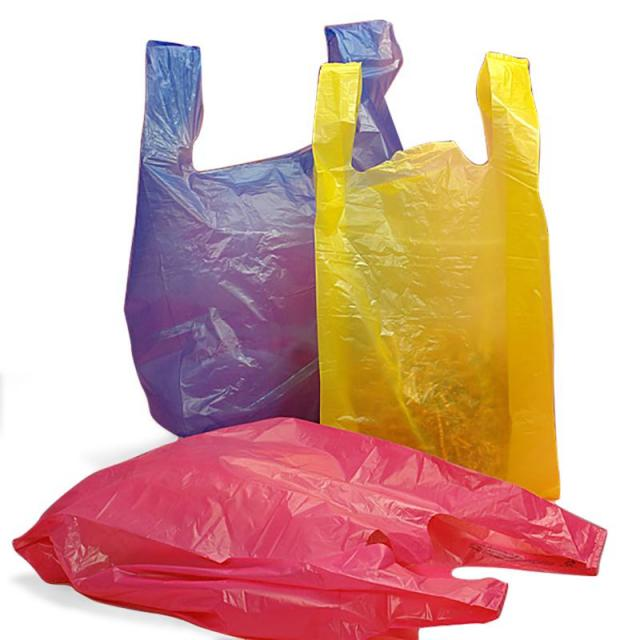plastic_bag: (22, 425, 623, 639), (299, 61, 577, 502), (120, 31, 395, 434)
